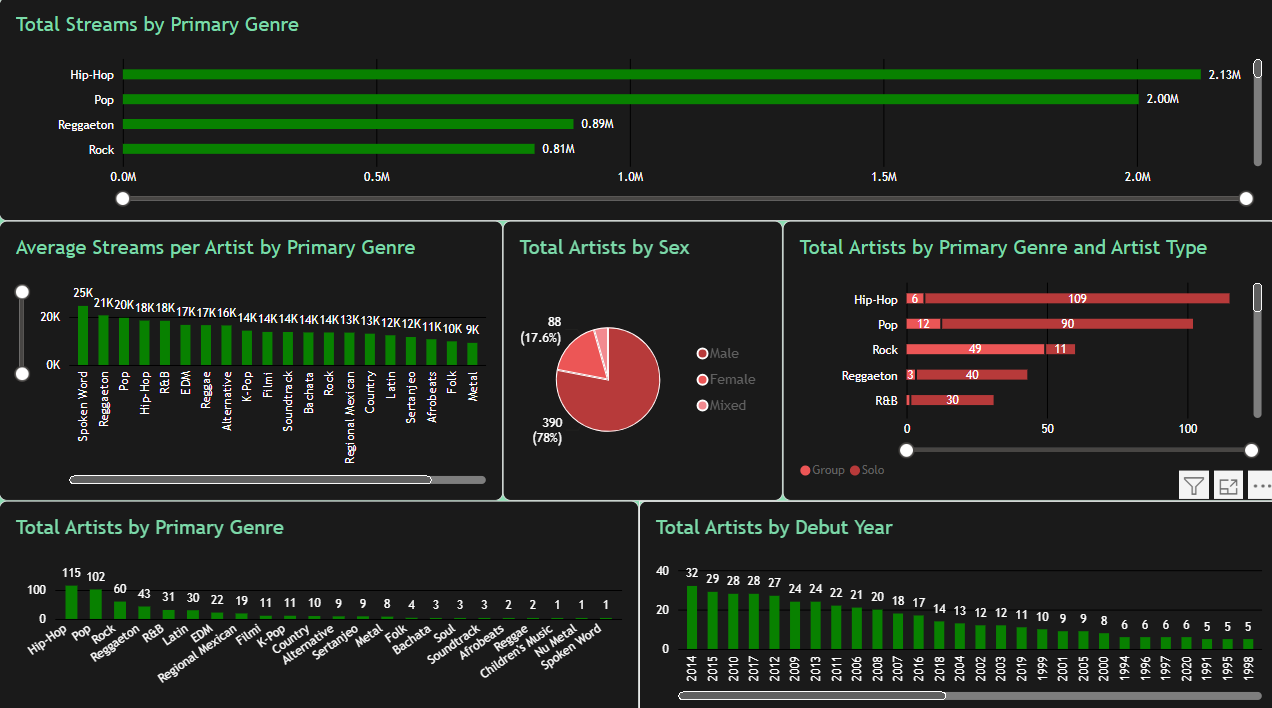

The dashboard page shown, as its layout file describes it:
{"tool":"powerbi","page":{"name":"Genre & Artist ProfileGenre & Artist Profile","canvas":[1280,720],"ordinal":2},"visuals":[{"type":"barChart","fields":{"Category":["DimArtist.Primary Genre"],"Y":["FactStreamedSpotify.Total Streams"]},"box":[0,0,1280,224],"z":0},{"type":"clusteredColumnChart","fields":{"Category":["DimArtist.Primary Genre"],"Y":["FactStreamedSpotify.Average Streams per Artist"]},"box":[0,224,504,280],"z":1000},{"type":"columnChart","fields":{"Category":["DimArtist.Primary Genre"],"Y":["FactStreamedSpotify.Total Artists"]},"box":[0,504,640,216],"z":2000},{"type":"barChart","fields":{"Category":["DimArtist.Primary Genre"],"Series":["DimArtist. Artist Type"],"Y":["FactStreamedSpotify.Total Artists"]},"box":[784,224,496,280],"z":3000},{"type":"pieChart","fields":{"Category":["DimArtist.Sex"],"Y":["FactStreamedSpotify.Total Artists"]},"box":[504,224,280,280],"z":4000},{"type":"columnChart","fields":{"Category":["DimArtist.Debut Year"],"Y":["FactStreamedSpotify.Total Artists"]},"box":[640,504,640,216],"z":5000}]}

Visuals, with their boxes in screenshot pixels (x1, y1, x2, y2), scaled from the page's 1280x720 canvas onto the 1272x708 screenshot:
barChart - DimArtist.Primary Genre x FactStreamedSpotify.Total Streams: box(0, 0, 1271, 220)
clusteredColumnChart - DimArtist.Primary Genre x FactStreamedSpotify.Average Streams per Artist: box(0, 220, 501, 496)
columnChart - DimArtist.Primary Genre x FactStreamedSpotify.Total Artists: box(0, 496, 636, 707)
barChart - DimArtist.Primary Genre x DimArtist. Artist Type: box(779, 220, 1271, 496)
pieChart - DimArtist.Sex x FactStreamedSpotify.Total Artists: box(501, 220, 779, 496)
columnChart - DimArtist.Debut Year x FactStreamedSpotify.Total Artists: box(636, 496, 1271, 707)
